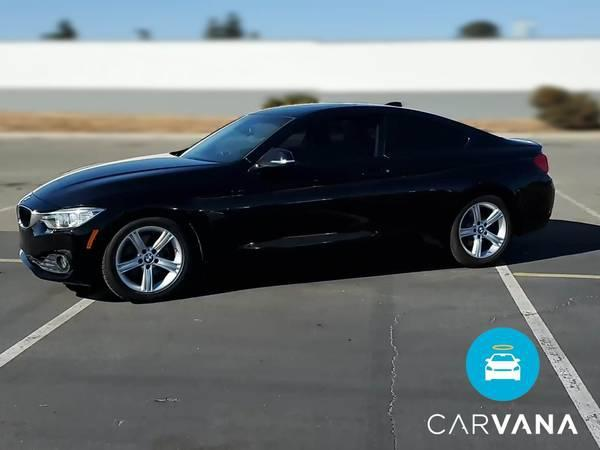Front_Bumper: (15, 204, 121, 286)
Front_Fender: (83, 159, 254, 279)
Front_Left_Door: (234, 159, 381, 277)
Front_Left_Window: (258, 111, 388, 163)
Front_Windshield: (182, 113, 299, 162)
Hood: (18, 151, 237, 212)
Left_Headlight: (41, 207, 110, 234)
Left_Taillight: (532, 151, 550, 172)
Rear_Bumper: (506, 174, 560, 241)
Rear_Fender: (477, 143, 546, 196)
Rear_Left_Door: (381, 144, 494, 253)
Rear_Left_Window: (388, 113, 478, 159)
Roof: (247, 99, 538, 159)
Wheel: (104, 214, 198, 303), (451, 190, 518, 265)
